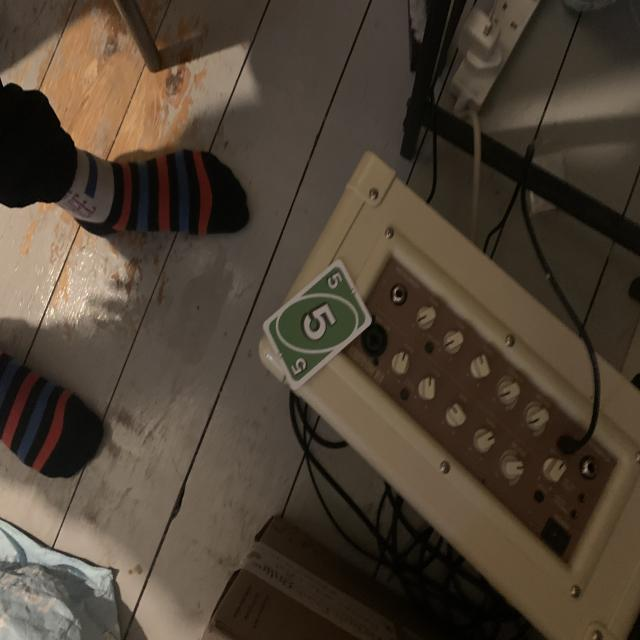lgreen-5: (323, 270, 345, 292)
